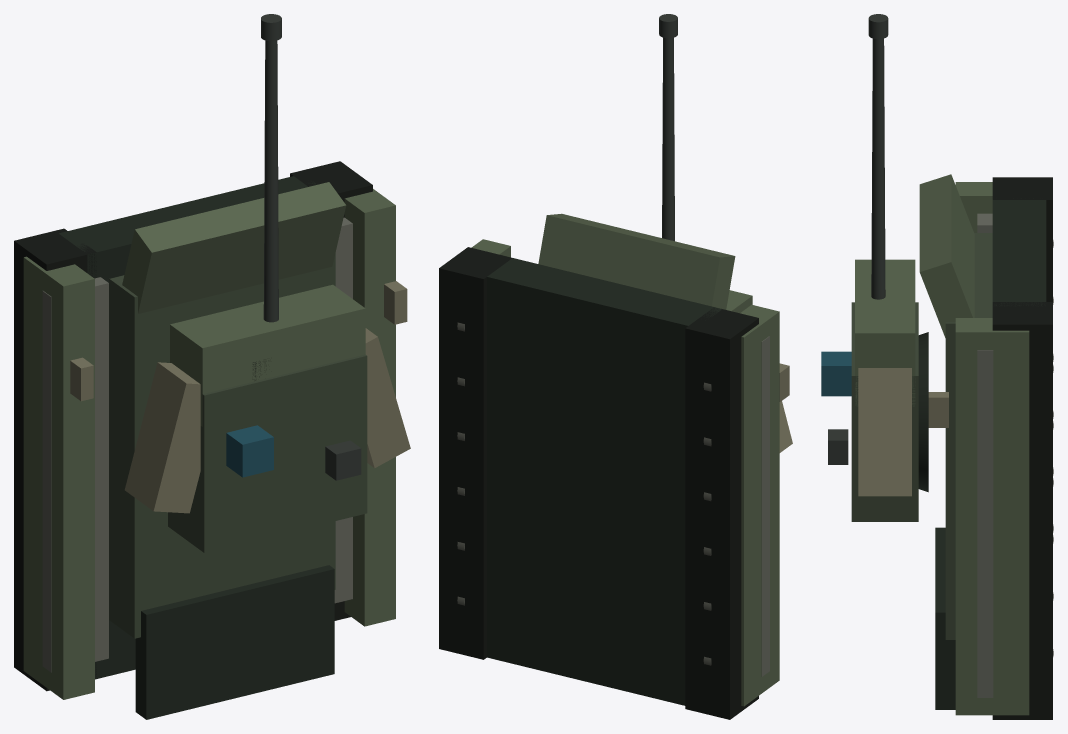
3 renders of one model, left to right at view 1: azimuth 30°, elevation 25°; view 2: azimuth 150°, elevation 25°; view 3: azimuth 270°, elevation 25°, orthographic. The views are drawn at different scales.
Visible parts, largest first — view 1: left_modern_skirt, k2_hull_upper, angular_tech_turret, rear_deck_grilles, faceted_front_glacis, arrowhead_front_armor, right_modern_skirt, left_track_guard, left_cheek_module, k2_hull_lower, left_track_rubber, barrel_tube (+7 smaller); view 2: k2_hull_lower, left_track_rubber, right_track_rubber, left_modern_skirt, faceted_front_glacis, left_track_guard, barrel_tube; view 3: right_modern_skirt, right_track_rubber, right_cheek_module, faceted_front_glacis, arrowhead_front_armor, right_track_guard, k2_hull_lower, k2_hull_upper, angular_tech_turret, barrel_tube, rear_deck_grilles, left_track_rubber (+6 smaller).
Boxes of the visible parts, <box> form: left_modern_skirt: <box>23,256,94,699</box>; k2_hull_upper: <box>109,253,335,638</box>; angular_tech_turret: <box>168,354,367,552</box>; rear_deck_grilles: <box>135,565,334,719</box>; faceted_front_glacis: <box>122,182,346,313</box>; arrowhead_front_armor: <box>170,284,365,426</box>; right_modern_skirt: <box>344,189,395,626</box>; left_track_guard: <box>42,277,108,672</box>; left_cheek_module: <box>124,362,200,513</box>; k2_hull_lower: <box>59,176,317,679</box>; left_track_rubber: <box>14,228,96,691</box>; barrel_tube: <box>263,40,278,322</box>; k2_hull_lower: <box>487,258,722,705</box>; left_track_rubber: <box>685,307,758,719</box>; right_track_rubber: <box>439,247,512,659</box>; left_modern_skirt: <box>740,305,779,706</box>; faceted_front_glacis: <box>538,213,735,309</box>; left_track_guard: <box>761,336,769,676</box>; barrel_tube: <box>662,37,674,241</box>; right_modern_skirt: <box>955,318,1029,715</box>; right_track_rubber: <box>992,302,1052,719</box>; right_cheek_module: <box>858,368,911,496</box>; faceted_front_glacis: <box>919,174,974,337</box>; arrowhead_front_armor: <box>855,259,915,406</box>; right_track_guard: <box>977,350,993,697</box>; k2_hull_lower: <box>992,198,1046,306</box>; k2_hull_upper: <box>945,233,992,639</box>; angular_tech_turret: <box>851,302,918,521</box>; barrel_tube: <box>871,38,885,299</box>; rear_deck_grilles: <box>935,527,955,709</box>; left_track_rubber: <box>992,177,1052,301</box>.
Size of the model in its own units: 53.2 by 107 by 34.6.
